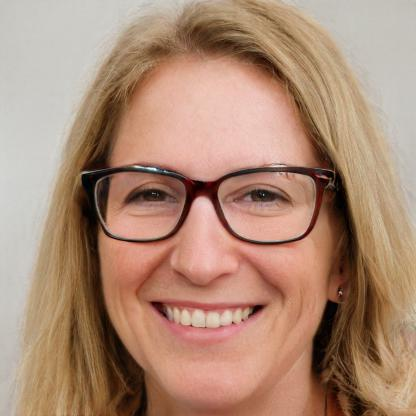glasses: (79, 159, 336, 248)
